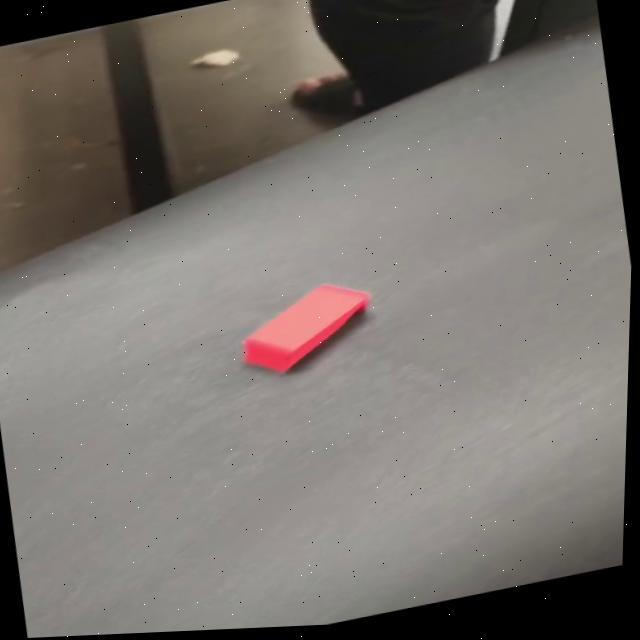red block: (233, 274, 381, 382)
